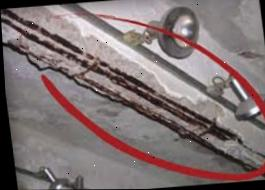exposed_rebar: (1, 18, 231, 142), (1, 9, 83, 54), (158, 95, 235, 137), (114, 68, 156, 93), (86, 53, 94, 59), (101, 62, 108, 67)
spalling: (1, 6, 265, 172)
